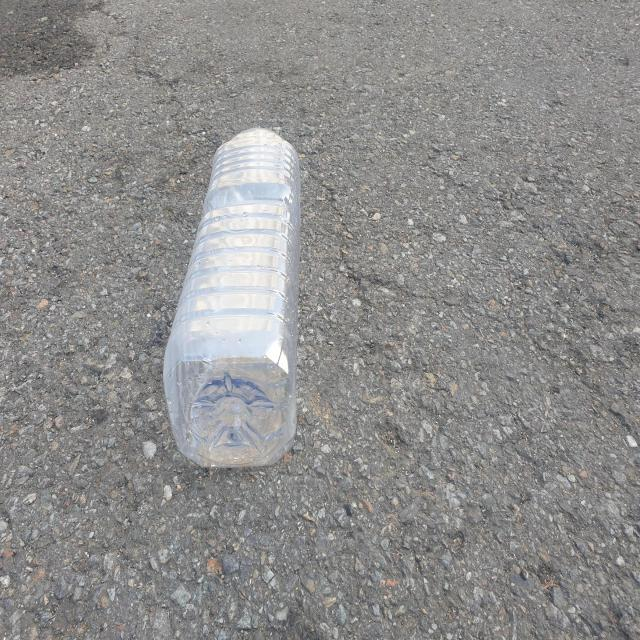plastic: (163, 128, 300, 468)
